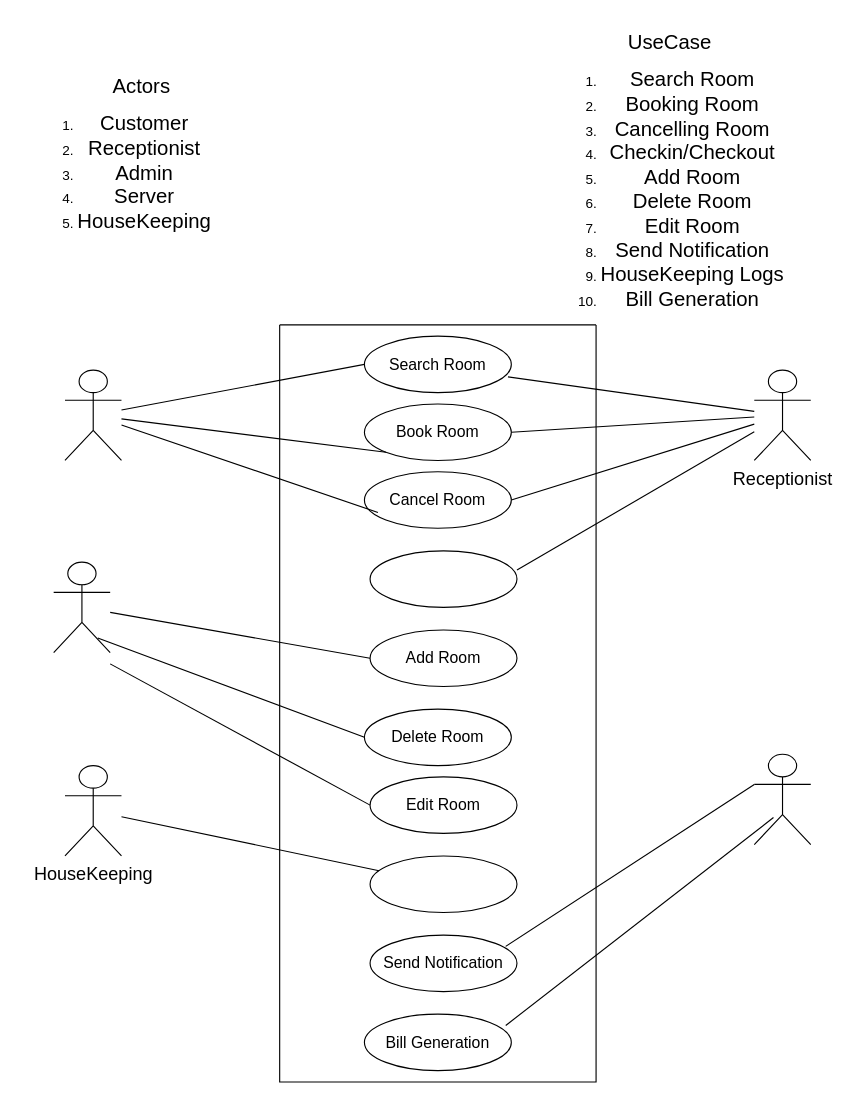
The diagram is 851 pixels wide and 1102 high, and some of its shapes have lost their labels. The centre of each missing label's shape, as x and y in pixels:
"Admin" goes at point 81,607.
"Checkin/checkout" goes at point 443,578.
"Customer" goes at point 92,414.
"HouseKeeping logs" goes at point 443,883.
"Server" goes at point 782,799.
